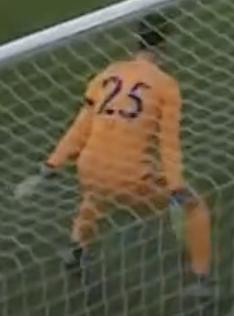goalkeeper: (13, 0, 234, 310)
